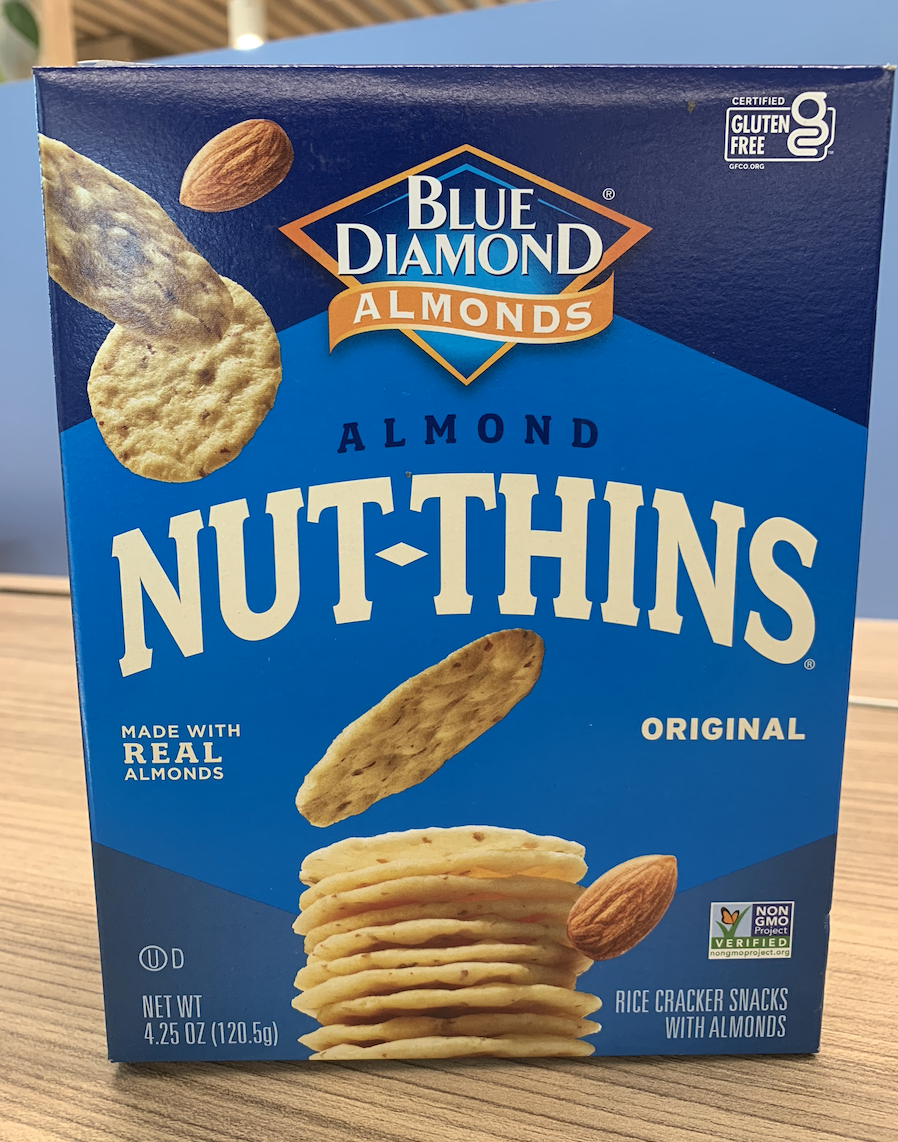crackers_100g-199g: (79, 76, 817, 1058)
